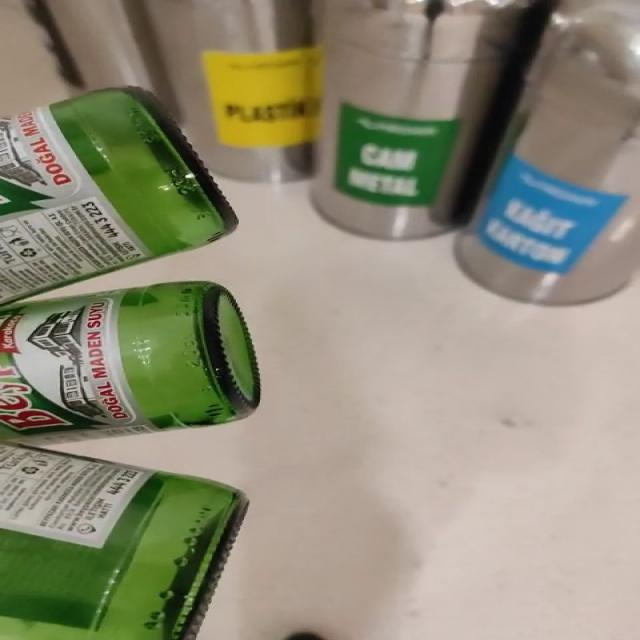glass: (0, 282, 260, 640), (0, 87, 236, 301)
